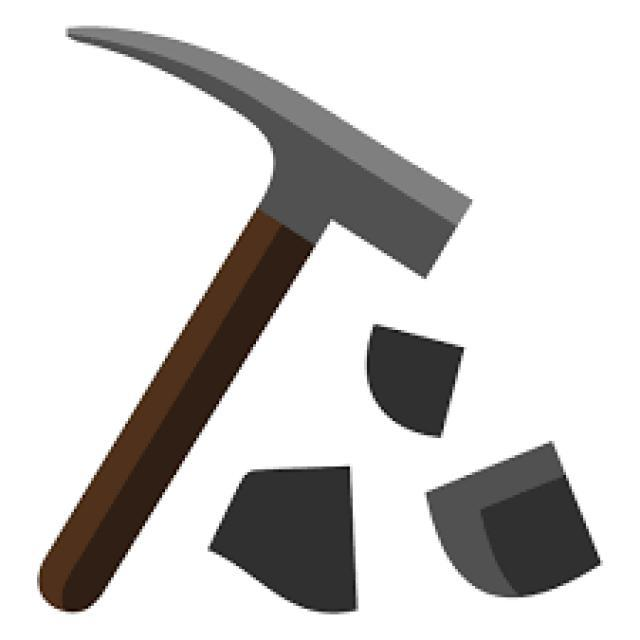Palu: (24, 8, 478, 624)
